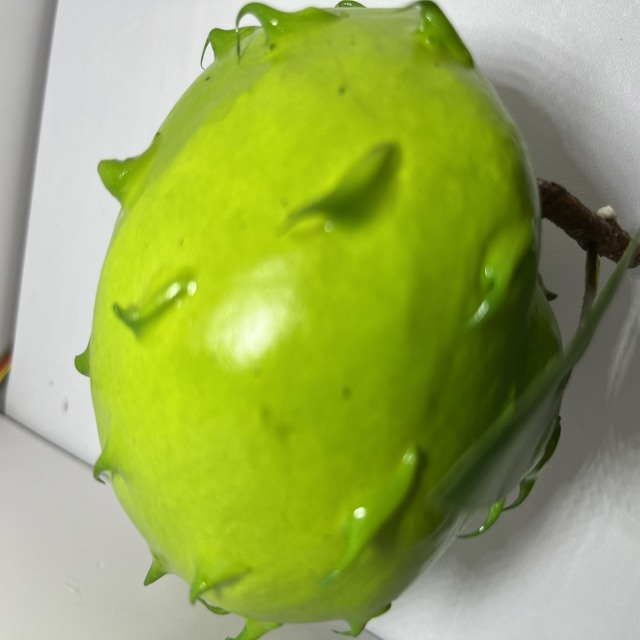Man cau: (65, 0, 577, 640)
